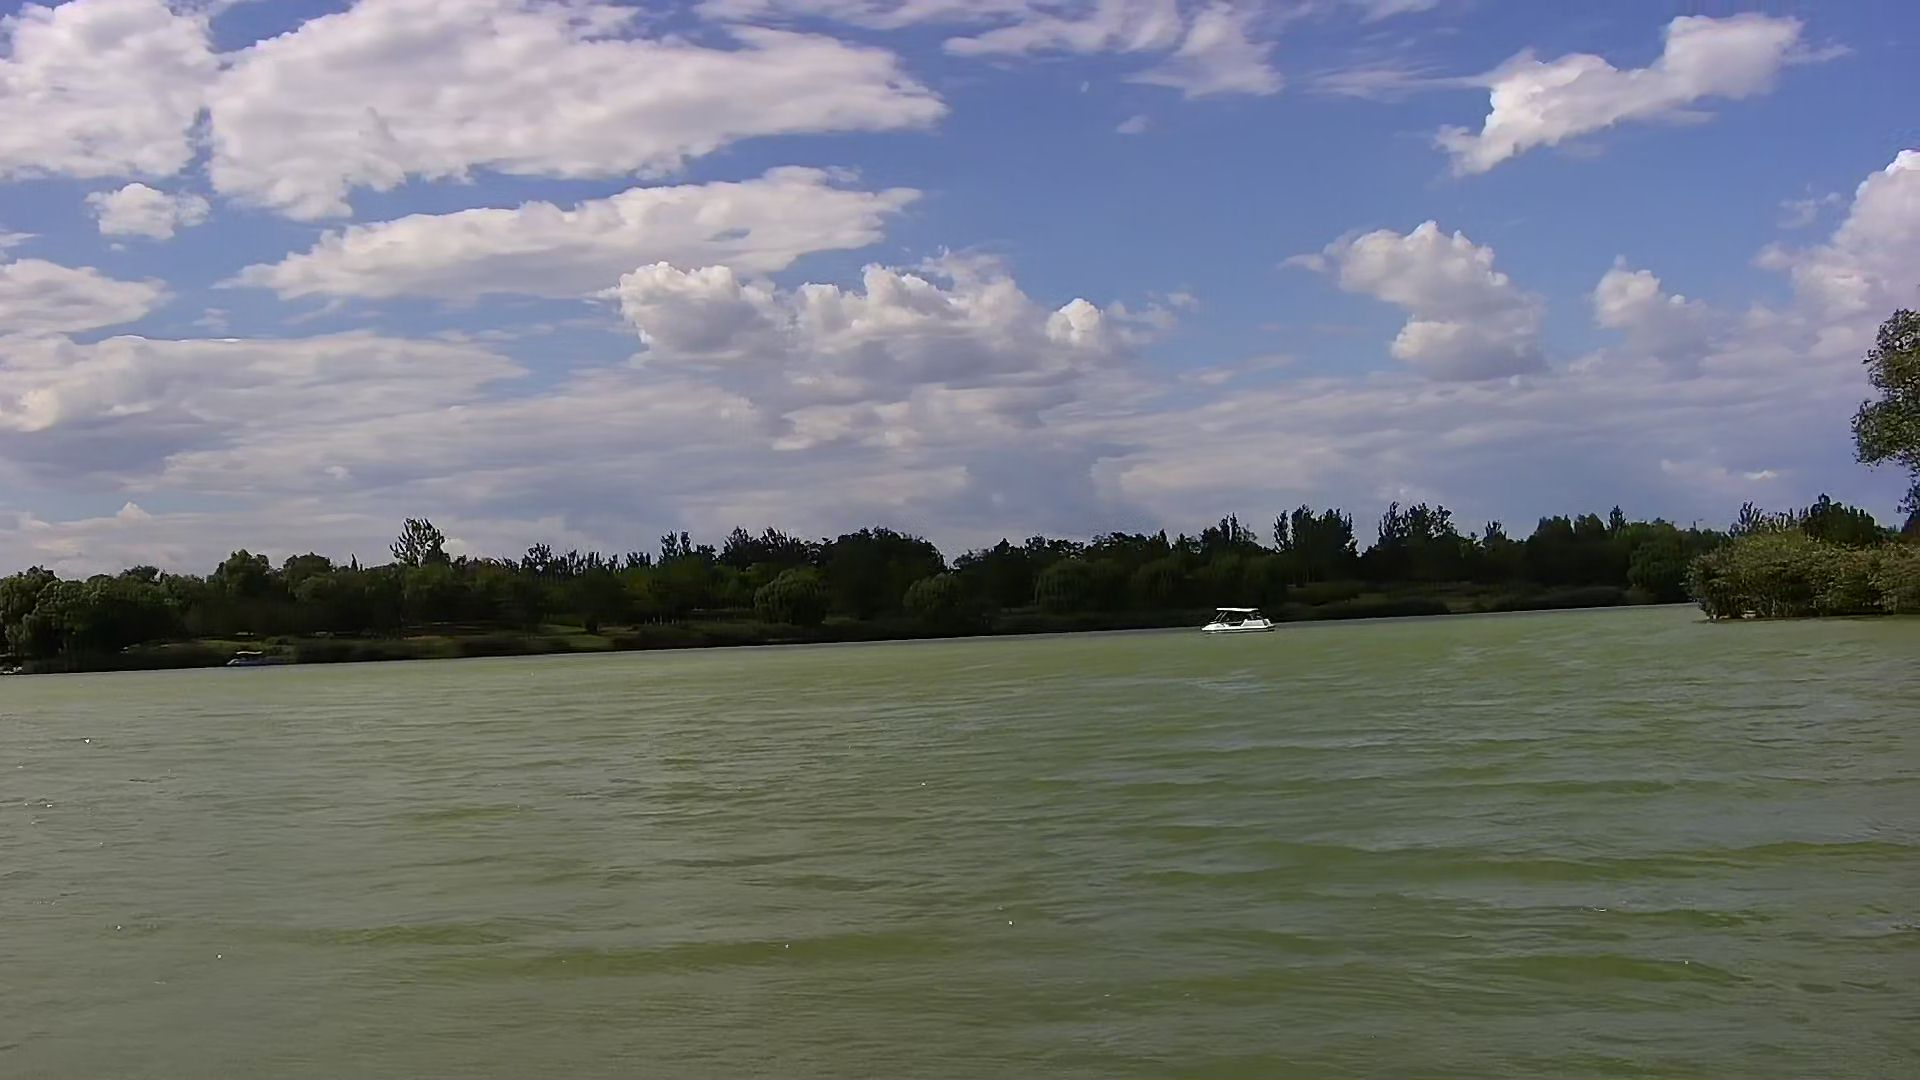boat: (1195, 603, 1282, 638), (222, 645, 285, 673)
